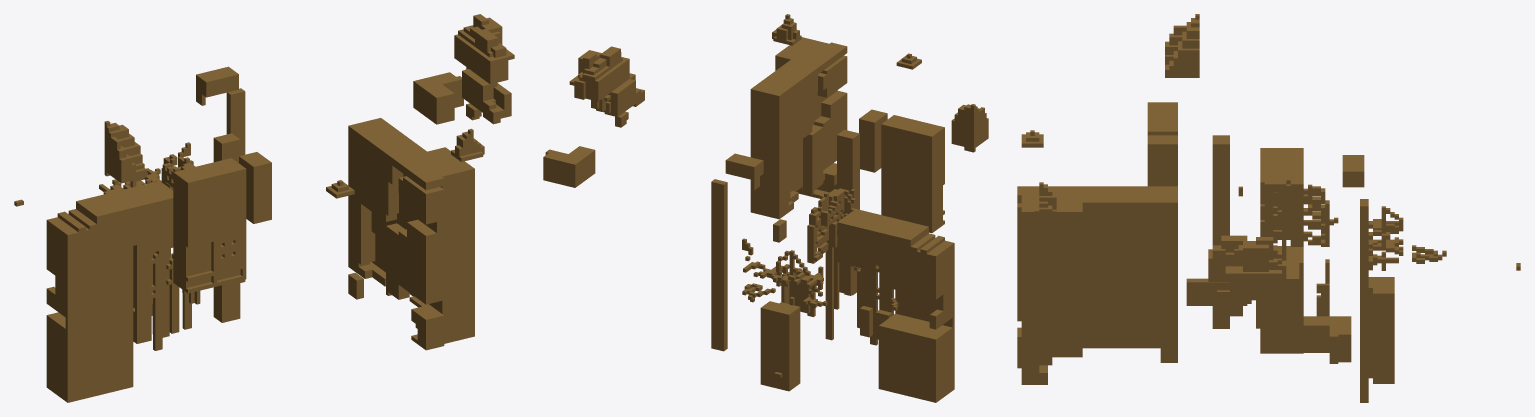
File: 半透明土黄色玻璃.obj
The picture shows the model from 3 angles, left to right: view 1: azimuth 30°, elevation 25°; view 2: azimuth 150°, elevation 25°; view 3: azimuth 270°, elevation 25°; orthographic projection. The views are drawn at different scales.
Parts seen in each view (by area): view 1: 半透明土黄色玻璃; view 2: 半透明土黄色玻璃; view 3: 半透明土黄色玻璃.
Part boxes in pixels (<box>): 半透明土黄色玻璃: <box>14,14,514,402</box>; 半透明土黄色玻璃: <box>543,14,988,402</box>; 半透明土黄色玻璃: <box>1017,14,1520,402</box>.
Size of the model in its own units: 118 by 79 by 116.
Materials: 1 (1 with a texture image).
